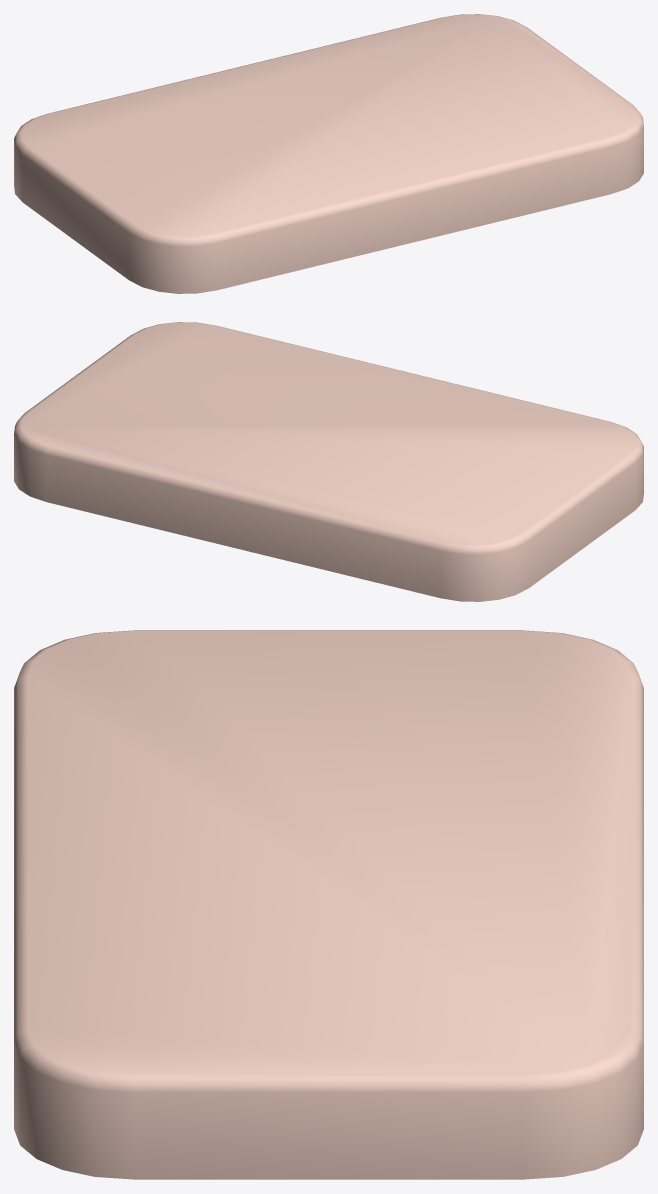
Rendered from Mdl_Box_Base_Top.fbx.
3 views of the same model, one above another, from view 1: azimuth 30°, elevation 25°; view 2: azimuth 150°, elevation 25°; view 3: azimuth 270°, elevation 25° (orthographic). The views are drawn at different scales.
Visible parts, largest first — view 1: Mesh_Box_Base.001; view 2: Mesh_Box_Base.001; view 3: Mesh_Box_Base.001.
Part boxes in pixels (<box>): Mesh_Box_Base.001: <box>14,14,643,293</box>; Mesh_Box_Base.001: <box>14,322,643,601</box>; Mesh_Box_Base.001: <box>14,630,643,1179</box>.
Bounding box in the file's own units: 1230 × 126 × 720.
